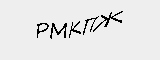Ж: (94, 9, 126, 30)
К: (69, 16, 82, 38)
М: (49, 18, 68, 41)
П: (83, 15, 99, 34)
Р: (35, 21, 50, 40)
